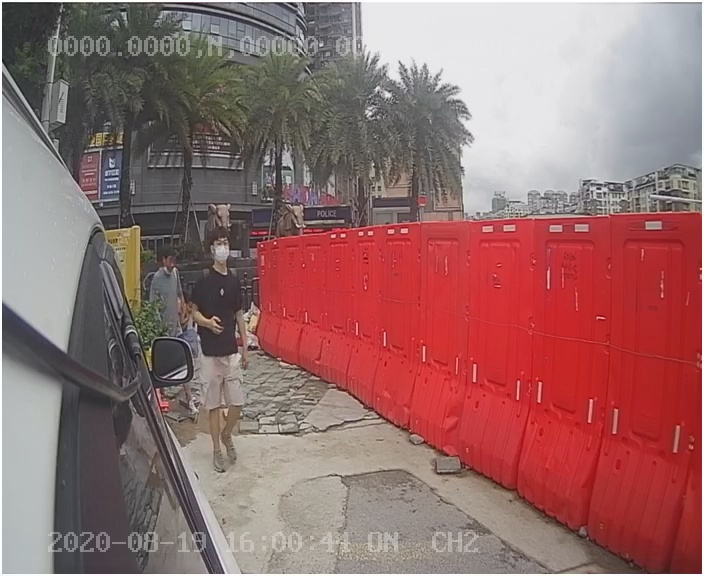person: (185, 229, 290, 480)
